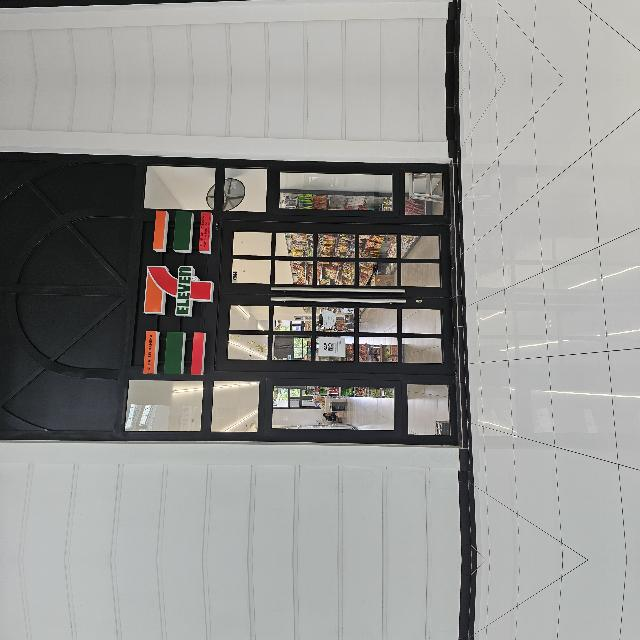door: (188, 294, 338, 534), (187, 586, 338, 640)
